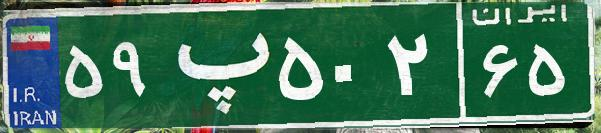0: (330, 28, 385, 110)
2: (385, 28, 445, 110)
5: (273, 28, 330, 110), (57, 26, 110, 107), (525, 38, 570, 115)
6: (475, 38, 525, 113)
9: (110, 28, 158, 105)
پ: (158, 15, 273, 115)
